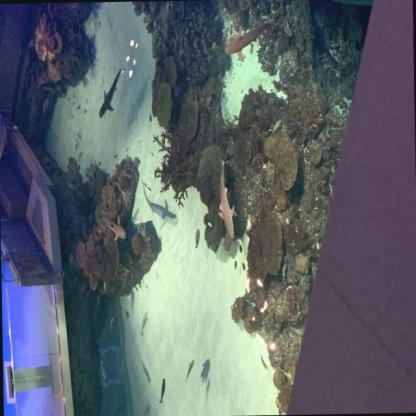fish: (184, 358, 196, 383), (140, 359, 152, 383), (158, 377, 166, 404), (139, 312, 148, 336), (193, 228, 202, 250), (259, 354, 269, 372), (107, 316, 115, 338), (130, 290, 135, 313), (144, 402, 151, 414), (233, 259, 238, 271), (241, 261, 247, 271), (238, 244, 244, 254), (125, 310, 130, 320), (136, 156, 141, 165), (148, 113, 152, 122), (148, 186, 152, 192), (143, 182, 147, 187), (113, 154, 118, 158)
shark: (224, 23, 274, 62), (214, 152, 235, 242), (96, 65, 127, 120), (142, 186, 178, 222), (100, 213, 127, 242)
